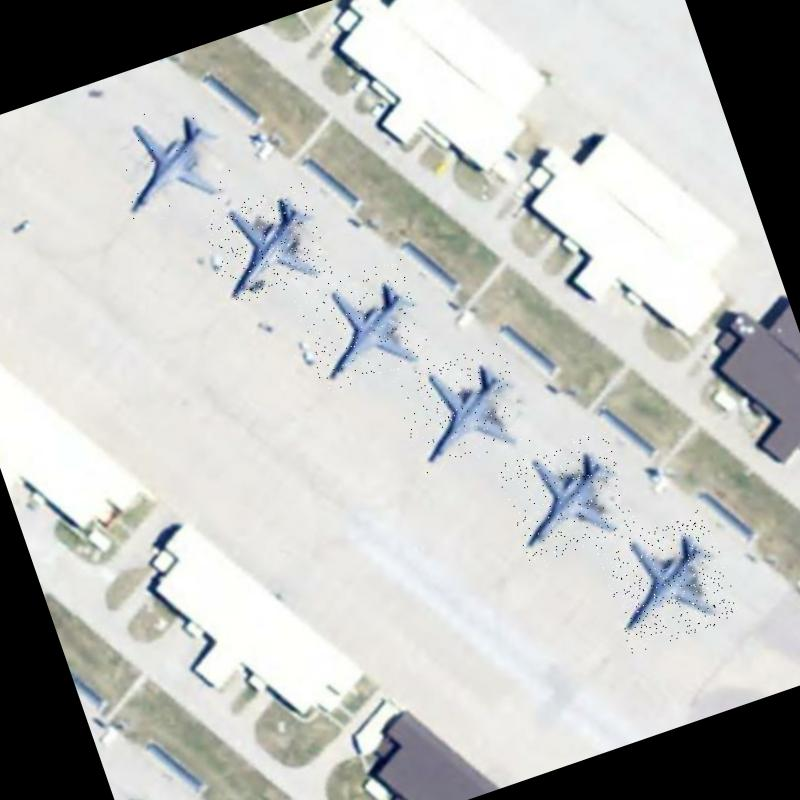A10: (594, 506, 742, 654), (495, 427, 641, 567), (290, 258, 435, 395), (390, 341, 534, 477), (99, 93, 238, 229), (197, 180, 335, 308)
